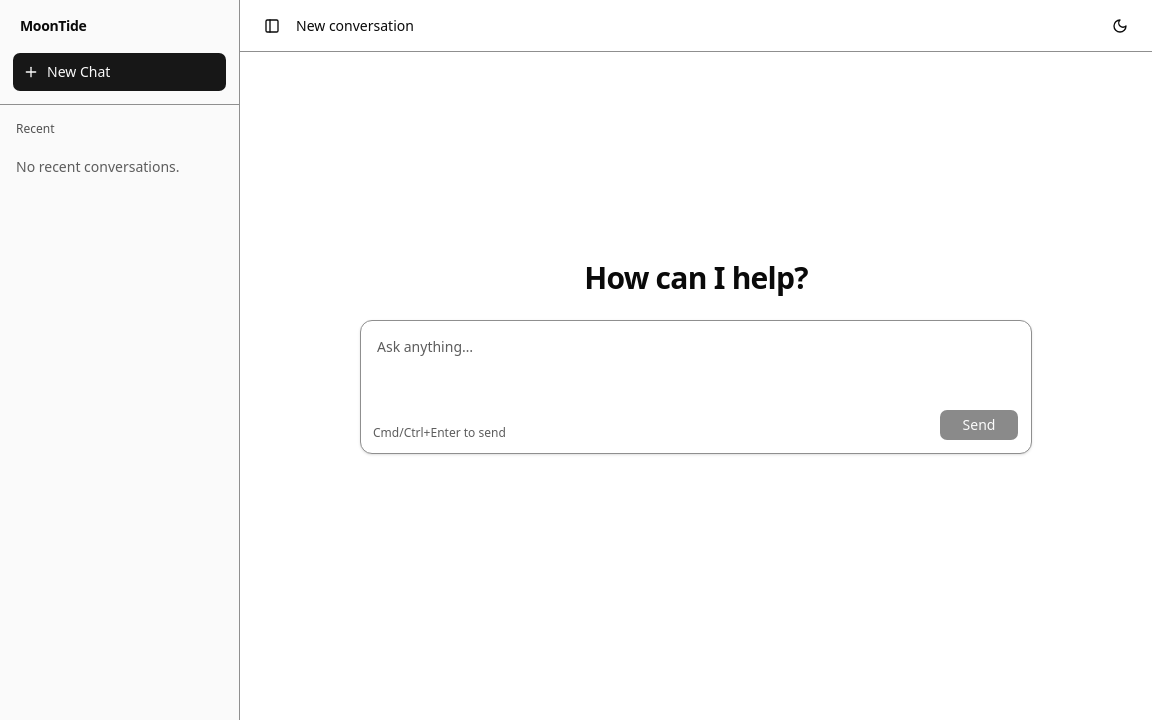
App › persists an explicit White or Black choice without changing Chat state
Click the button named "Switch to Black theme" at [1120, 26], box left=1104, top=10, right=1136, bottom=42
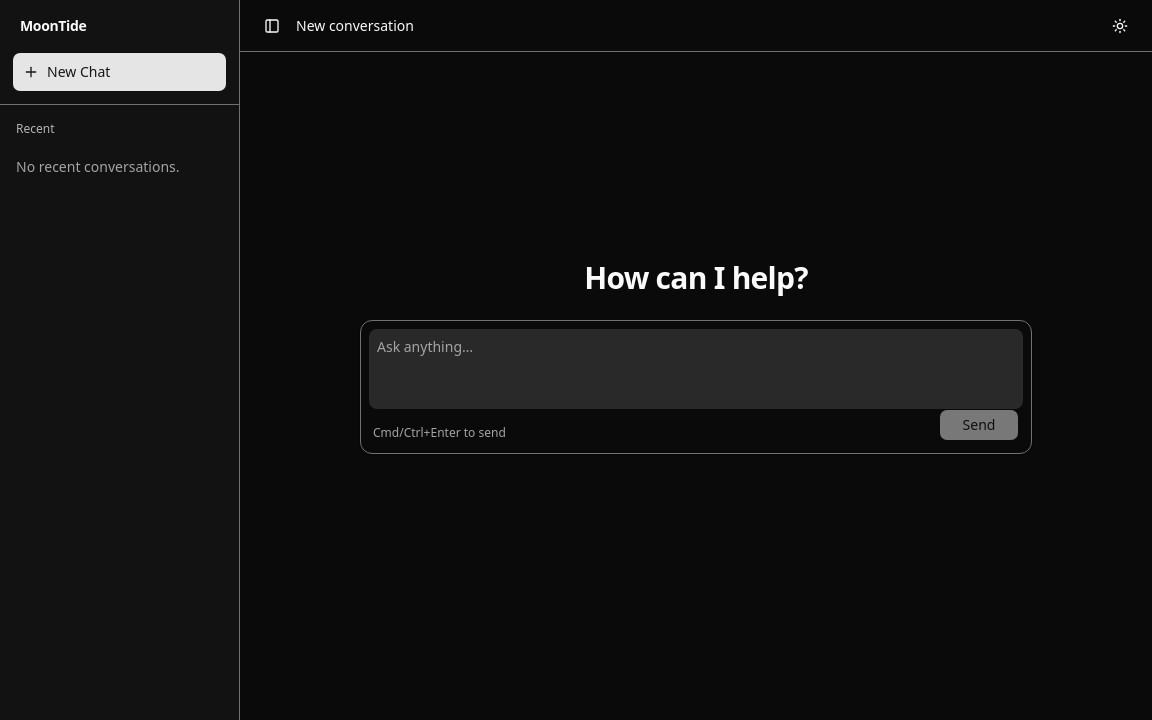
Check: the heading "How can I help?" is shown, box left=584, top=257, right=808, bottom=298
Check: the button named "Switch to White theme" is shown, box left=1104, top=10, right=1136, bottom=42
